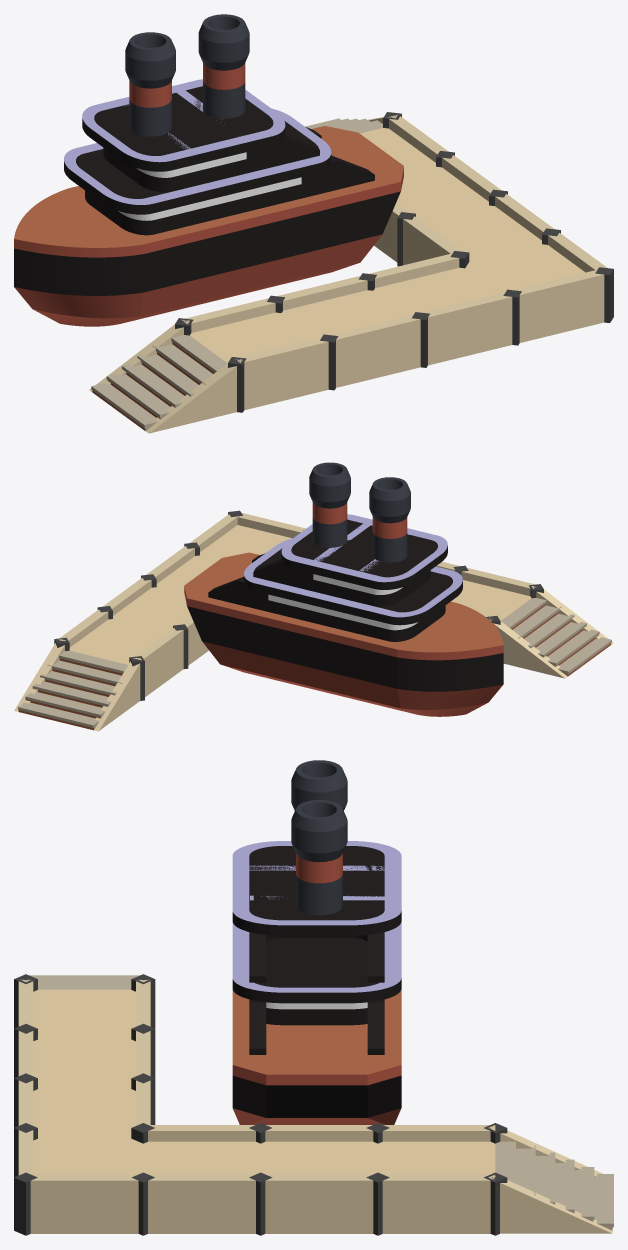
The model's file is bateau_de_croisiere.glb.
3 views of the same model, one above another, from view 1: azimuth 30°, elevation 25°; view 2: azimuth 150°, elevation 25°; view 3: azimuth 270°, elevation 25° (orthographic). The views are drawn at different scales.
Visible parts, largest first — view 1: mergedBlocks(Clone); view 2: mergedBlocks(Clone); view 3: mergedBlocks(Clone).
Part boxes in pixels (x1,y1,x2,y2): mergedBlocks(Clone): (14,14,613,433); mergedBlocks(Clone): (14,462,613,731); mergedBlocks(Clone): (14,760,613,1235).
Size of the model in its own units: 5.11 by 2.7 by 5.11.
Materials: 1 (1 with a texture image).
